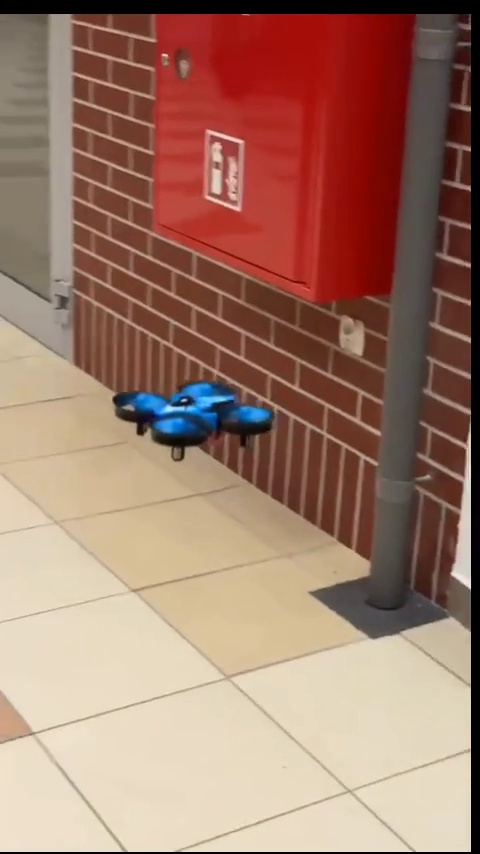drone: (112, 374, 275, 459)
